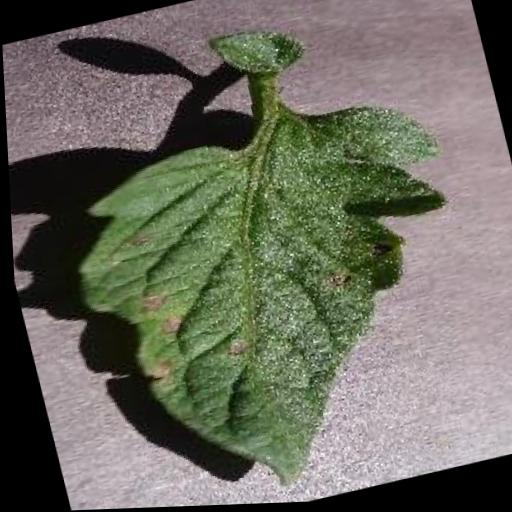Early Blight: (50, 84, 508, 511)
